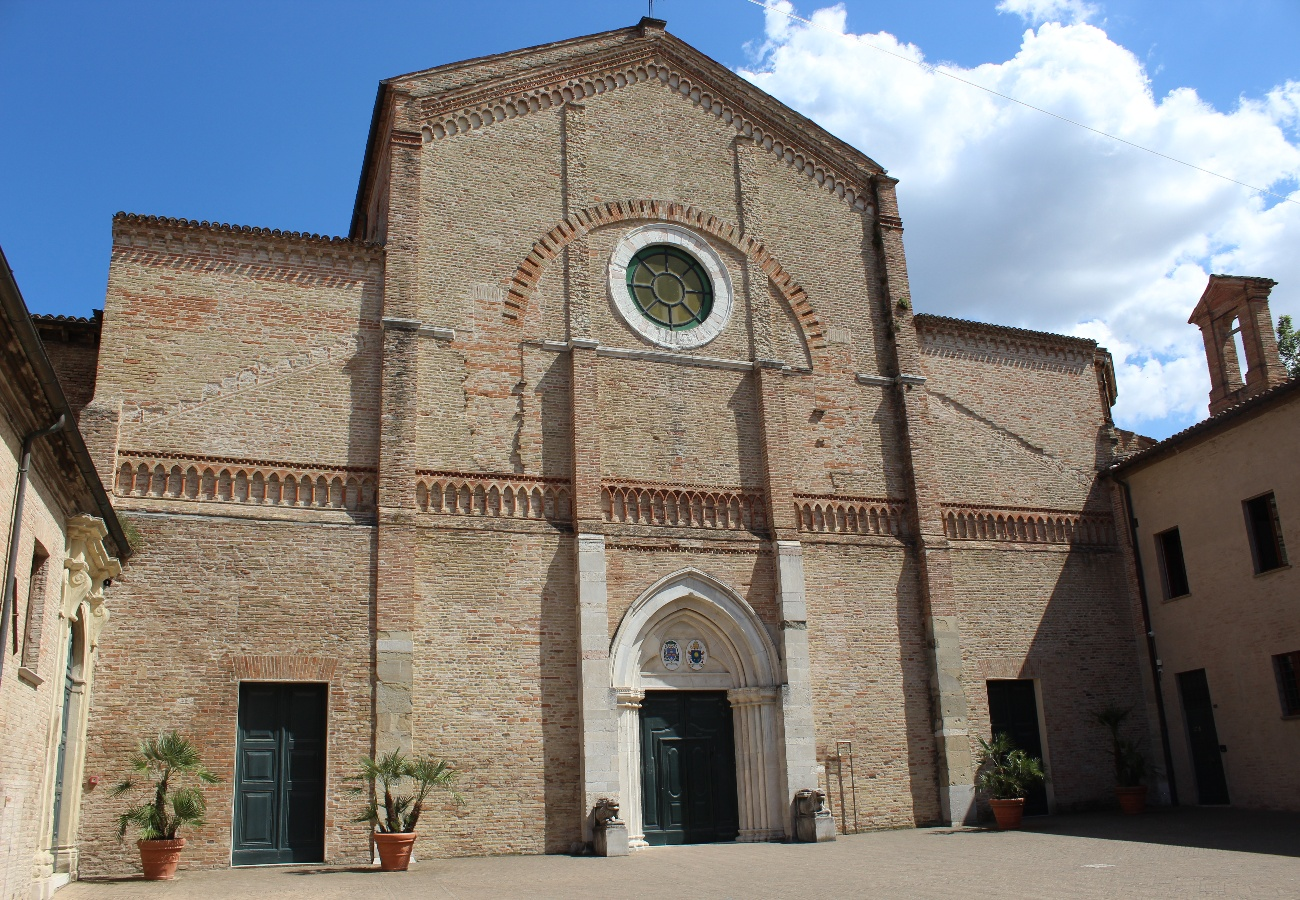Cattedrale Santa Maria Assunta: (113, 20, 1114, 858)
